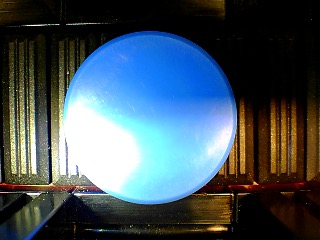BLANK: (63, 30, 237, 205)
